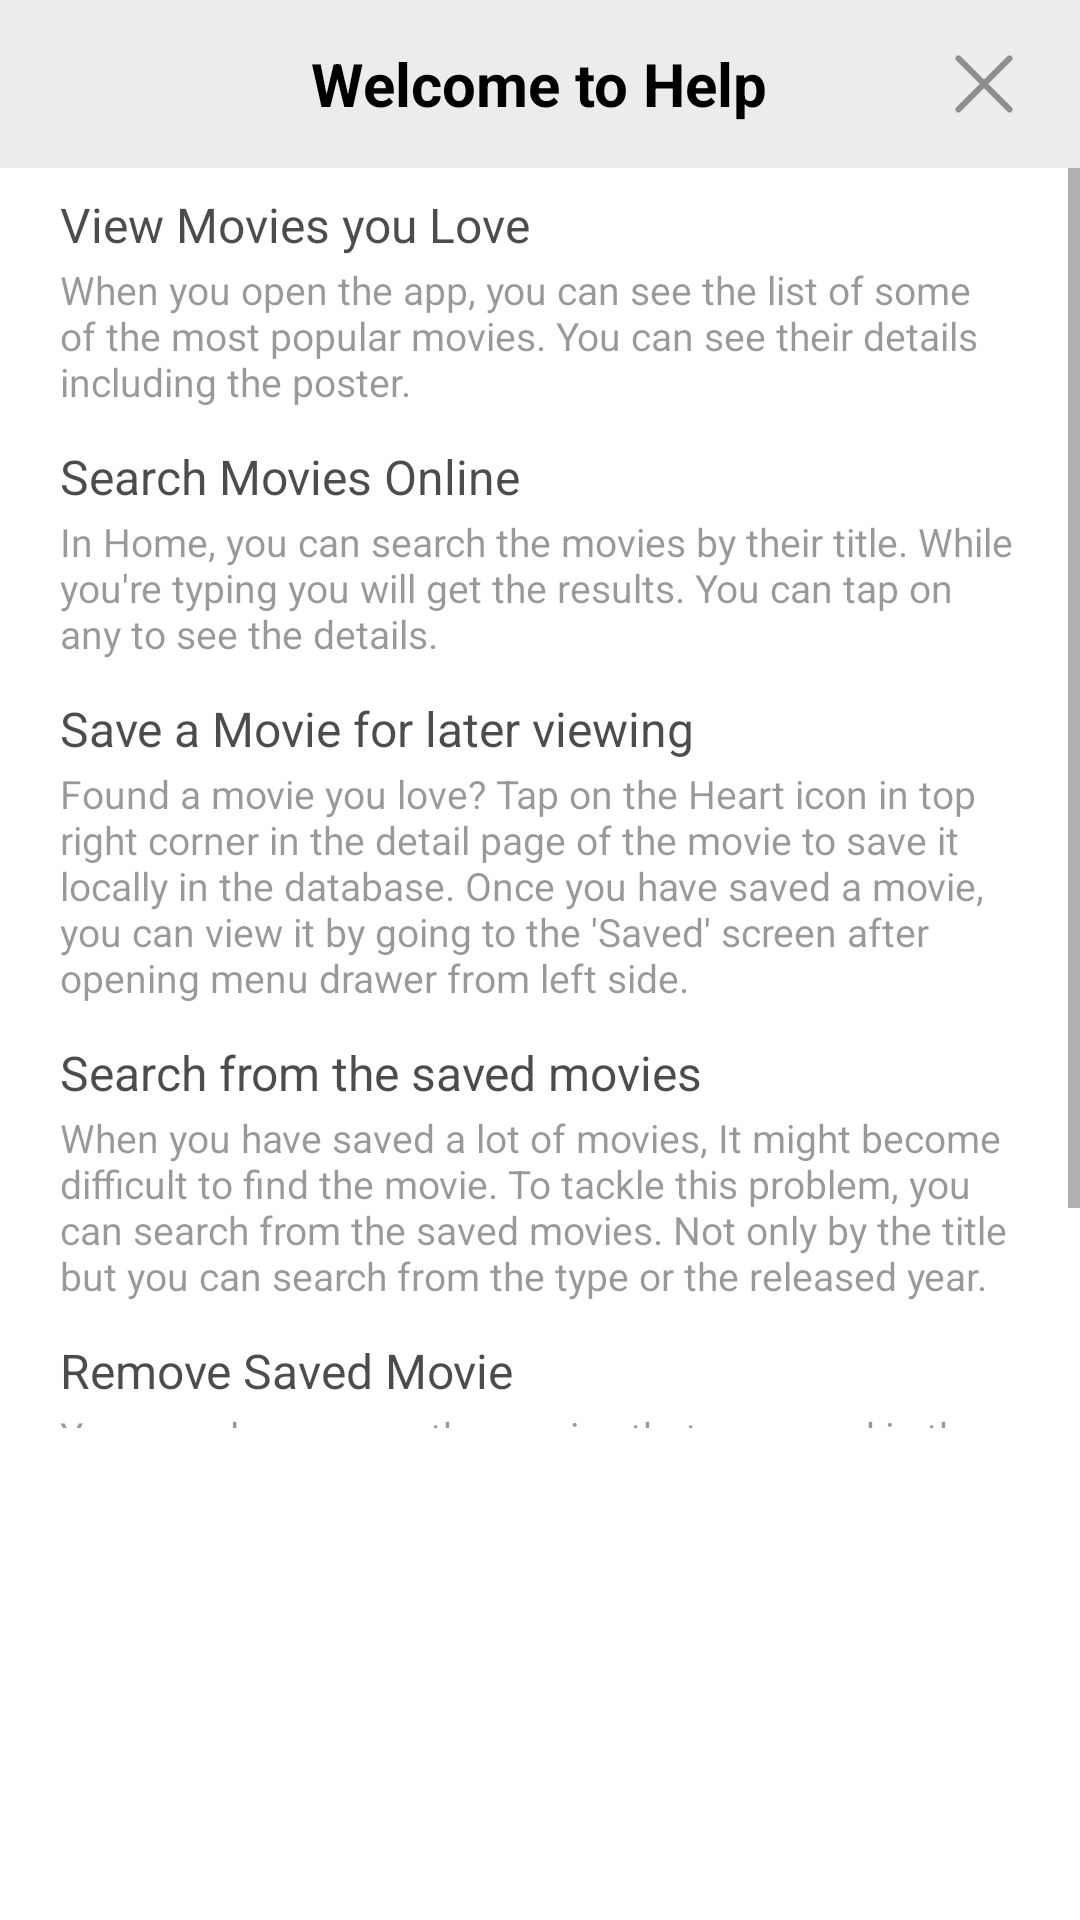

Screen size 1080px×1920px. Icon name, then its center in pixels as [x,y]:
close: [984,84]
